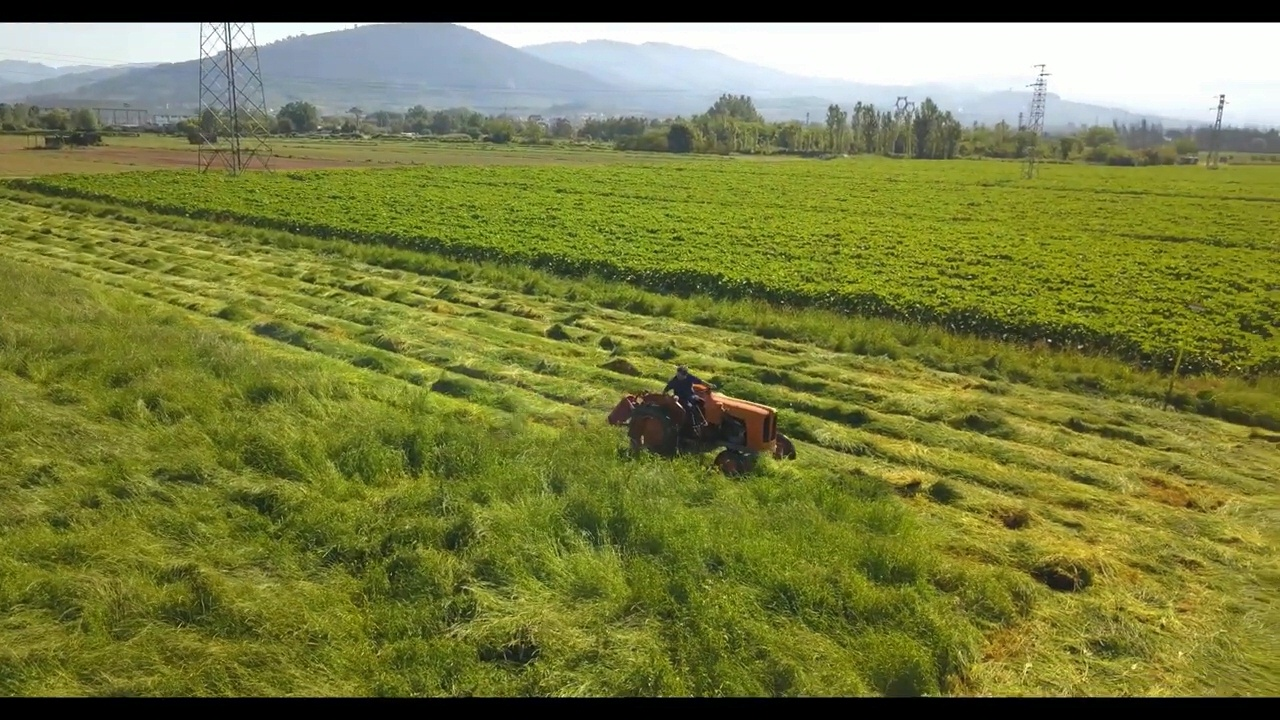insan: (661, 364, 717, 428)
traktor: (615, 384, 798, 475)
